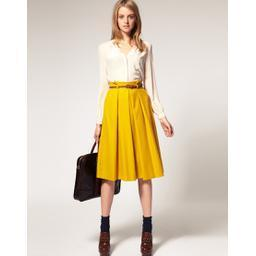shirt: (94, 40, 166, 124)
skirt: (96, 82, 164, 181)
